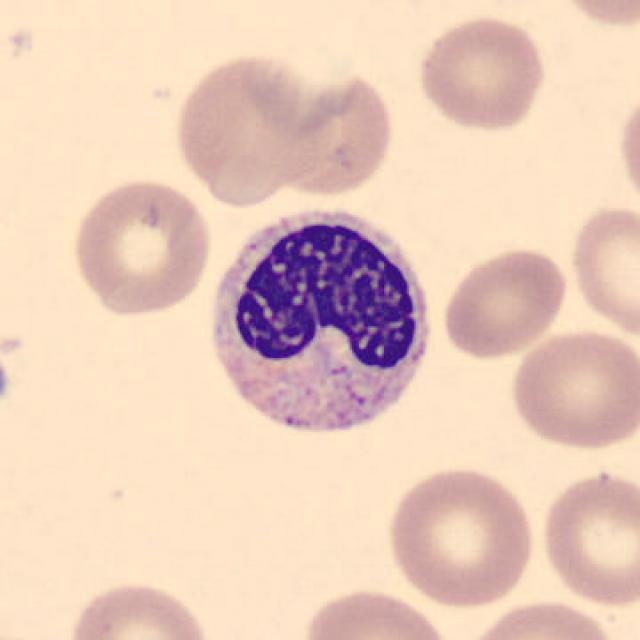Neutrophil: (198, 192, 447, 464)
Platelets: (0, 352, 14, 418)
RBC: (170, 48, 330, 210), (382, 462, 539, 608), (66, 173, 215, 319), (267, 67, 398, 203), (505, 326, 638, 453), (412, 12, 550, 134), (437, 244, 571, 362), (537, 466, 638, 608), (566, 199, 638, 339), (64, 576, 215, 640), (297, 583, 459, 640), (457, 596, 624, 640), (613, 83, 640, 215), (547, 0, 640, 31)
